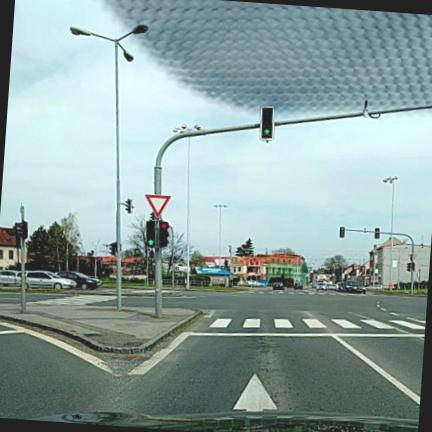Road: (0, 290, 426, 418)
